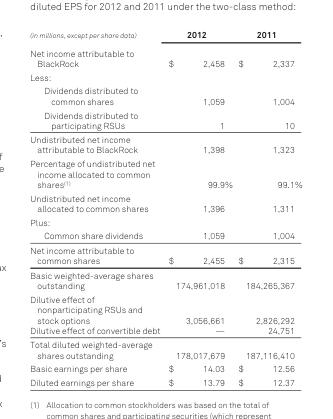table: (29, 28, 301, 387)
table column: (29, 28, 163, 387), (163, 28, 234, 387), (234, 28, 301, 387)
table column header: (29, 28, 301, 43)
table projected row header: (29, 69, 301, 83), (29, 214, 301, 228)
table row: (29, 156, 301, 190), (29, 292, 301, 325), (29, 43, 301, 69), (29, 107, 301, 132), (29, 242, 301, 267), (29, 267, 301, 292), (29, 83, 301, 107), (29, 132, 301, 156), (29, 190, 301, 214), (29, 337, 301, 361), (29, 28, 301, 43), (29, 69, 301, 83), (29, 214, 301, 228), (29, 228, 301, 242), (29, 361, 301, 375), (29, 325, 301, 337), (29, 375, 301, 387)
